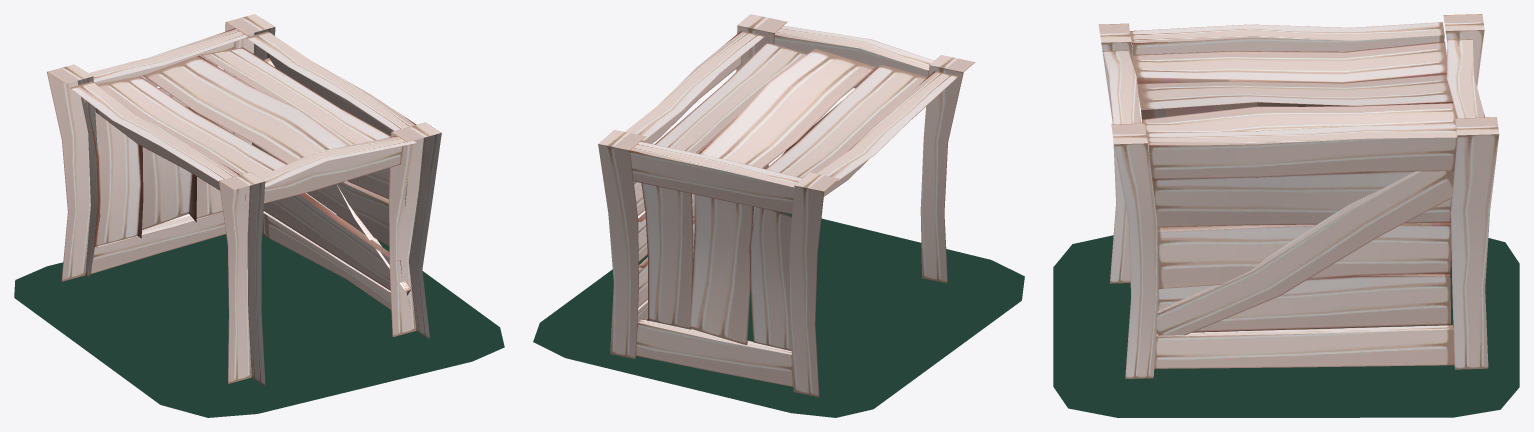
Rendered from CrateBig1.fbx.
The picture shows the model from 3 angles, left to right: view 1: azimuth 30°, elevation 25°; view 2: azimuth 150°, elevation 25°; view 3: azimuth 270°, elevation 25°; orthographic projection. The views are drawn at different scales.
Visible parts, largest first — view 1: CrateBig1, ShadowSquareDark; view 2: CrateBig1, ShadowSquareDark; view 3: CrateBig1, ShadowSquareDark.
Part boxes in pixels (x1,y1,x2,y2): CrateBig1: (47,14,441,386); ShadowSquareDark: (14,214,504,417); CrateBig1: (598,14,975,397); ShadowSquareDark: (533,211,1024,417); CrateBig1: (1098,14,1499,378); ShadowSquareDark: (1053,235,1519,417).
Size of the model in its own units: 1.2 by 0.73 by 1.27.
2 materials, 1 textured.
